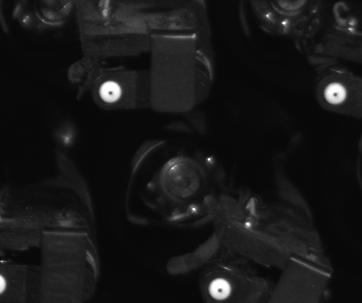fiber: (93, 75, 128, 108), (202, 272, 239, 301), (318, 78, 351, 110)
